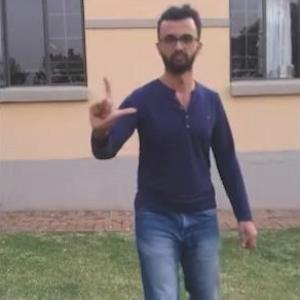land_hand: (83, 70, 140, 139)
